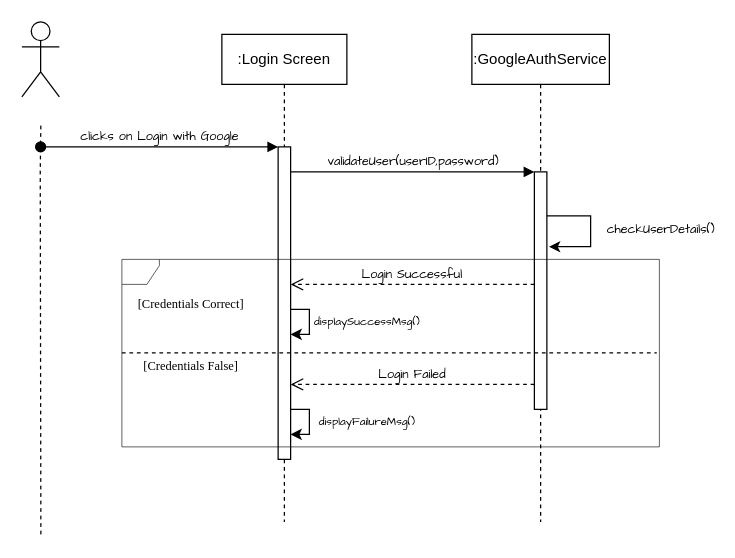
Image size: 735x558. Some labels were removed from this diagram. Each missing label, with the box of its shape:
alt: (121, 258, 659, 447)
User: (21, 21, 59, 97)
